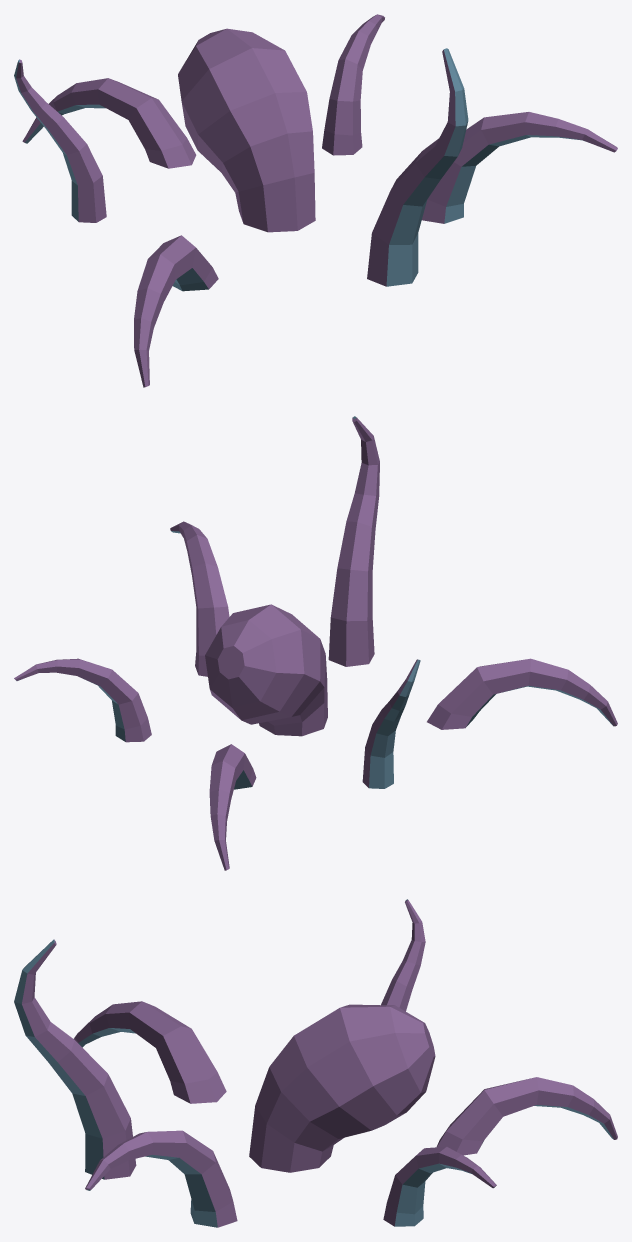
Rendered from Kraken.fbx.
3 renders of one model, top to bottom at view 1: azimuth 30°, elevation 25°; view 2: azimuth 150°, elevation 25°; view 3: azimuth 270°, elevation 25°, orthographic. The views are drawn at different scales.
Parts seen in each view (by area): view 1: Krake; view 2: Krake; view 3: Krake.
Boxes of the visible parts, x1,y1,x2,y2 form: Krake: (14, 14, 617, 387); Krake: (14, 416, 617, 870); Krake: (14, 899, 617, 1227).
Bounding box in the file's own units: 1306 × 695 × 1411.
